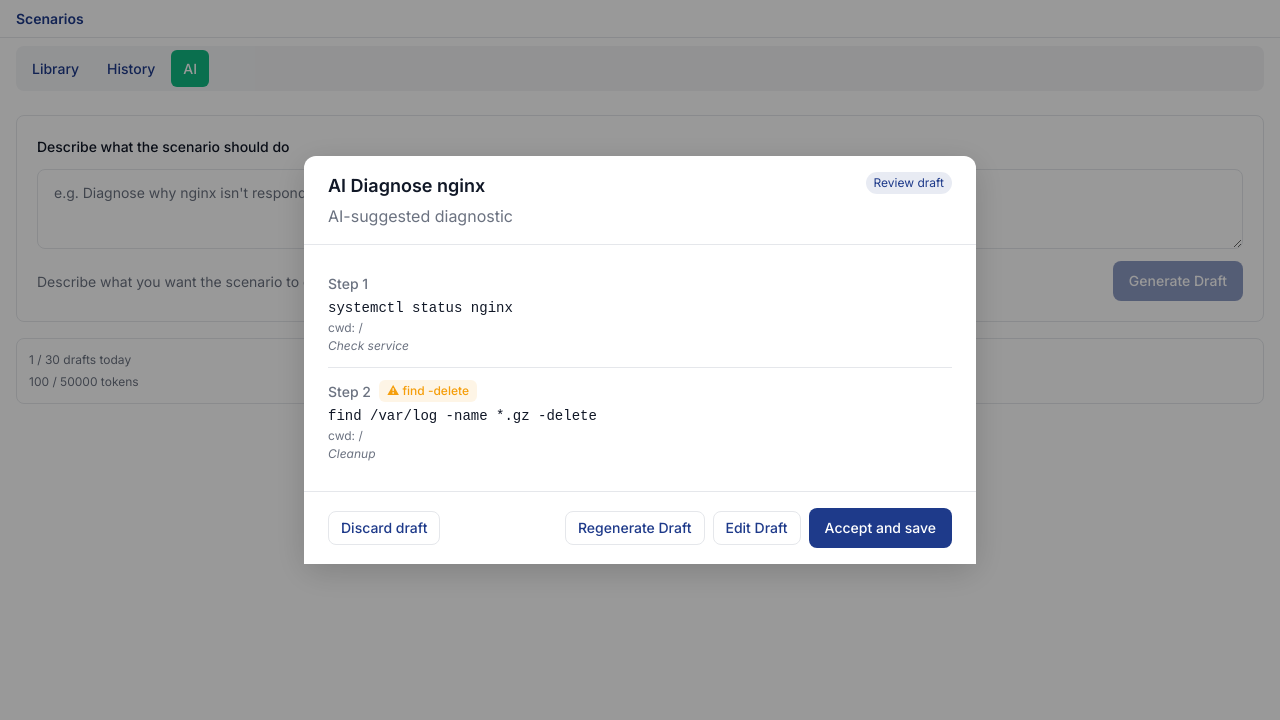
Test: ScenariosPanel — DraftReviewModal flow › Editor [← Back] with backTarget=ai returns to AI segment, NOT library
Expected: the element with test id "scenarios-ai-segment" is shown, x1=0 y1=99 x2=1279 y2=420
Click the button with test id "draft-review-edit": (757, 528) x1=712 y1=511 x2=801 y2=545
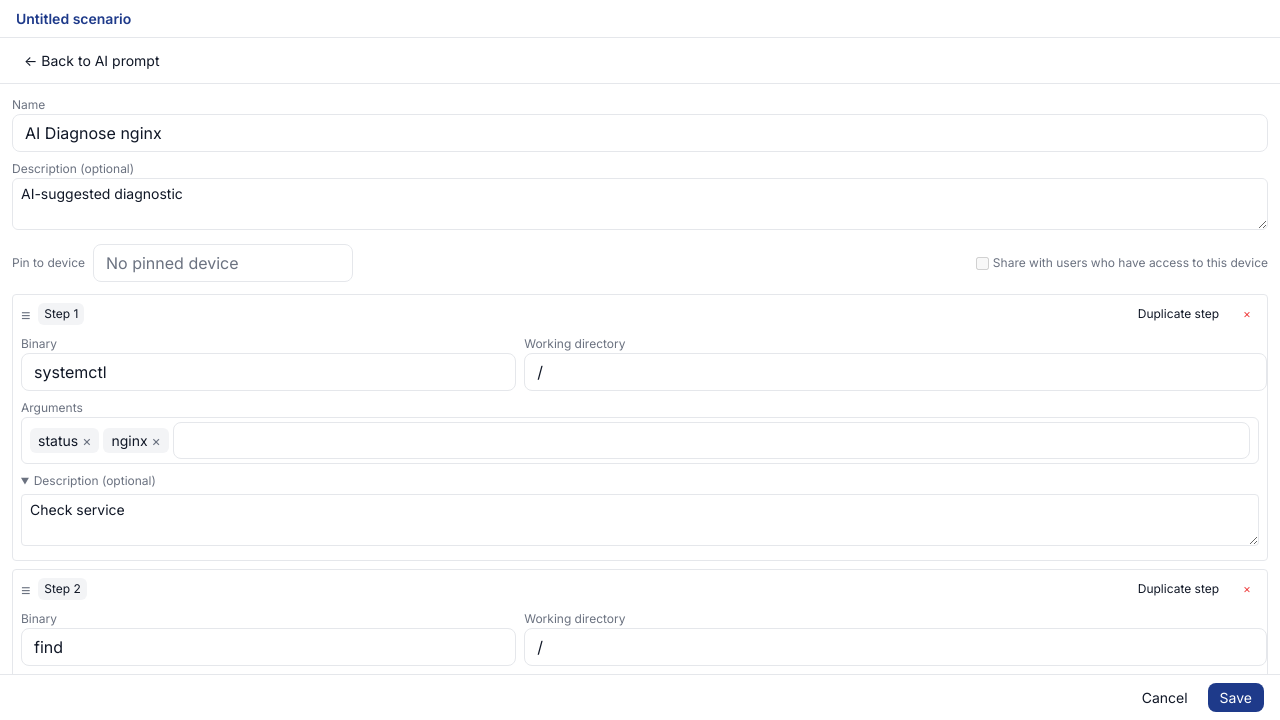
Result: the button with test id "editor-back" is shown
Click the button with test id "editor-back": (92, 60) x1=16 y1=46 x2=168 y2=75
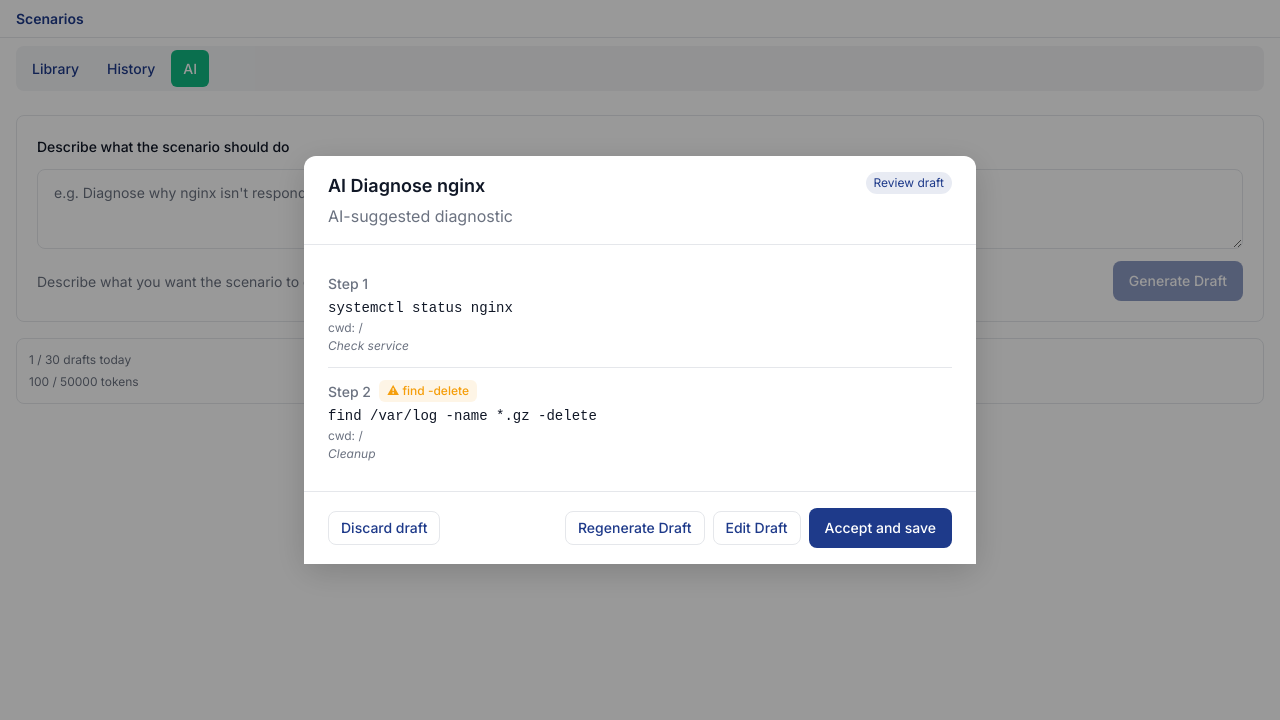
Result: the element with test id "scenario-editor" is gone
Result: the element with test id "scenarios-ai-segment" is shown at x1=0 y1=99 x2=1279 y2=420
